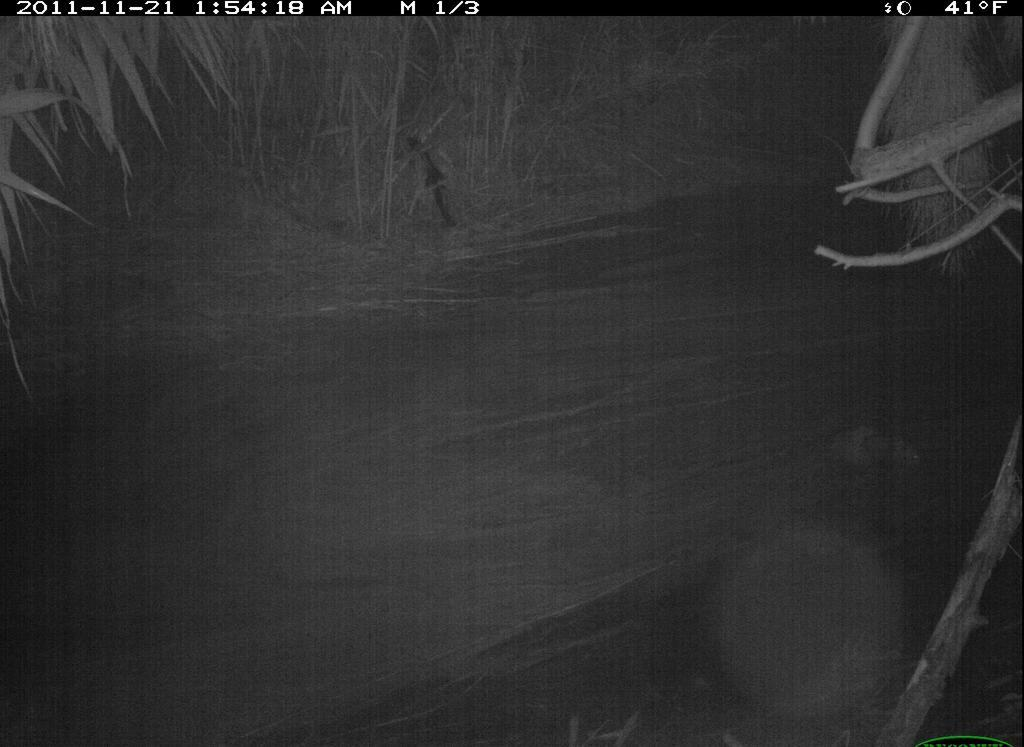opossum: (806, 411, 958, 498)
